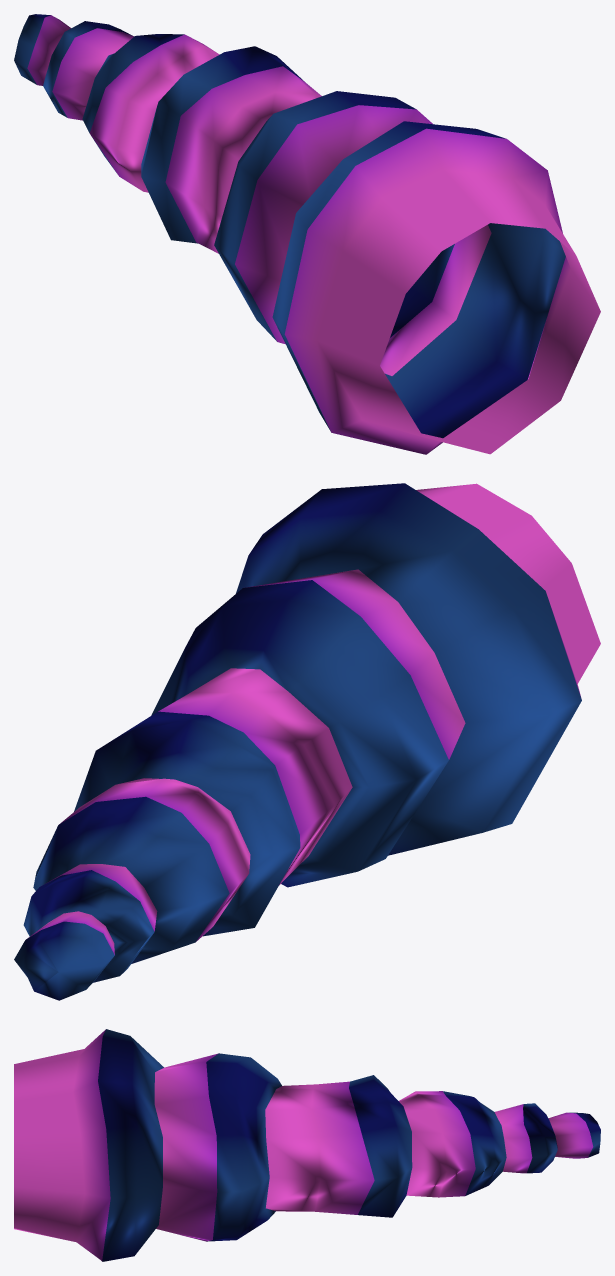
Rendered from RaveCaveTowerA.fbx.
3 renders of one model, top to bottom at view 1: azimuth 30°, elevation 25°; view 2: azimuth 150°, elevation 25°; view 3: azimuth 270°, elevation 25°, orthographic. The views are drawn at different scales.
Parts seen in each view (by area): view 1: RaveCaveTowerA; view 2: RaveCaveTowerA; view 3: RaveCaveTowerA.
Boxes of the visible parts, <box> form: RaveCaveTowerA: <box>14,14,600,454</box>; RaveCaveTowerA: <box>14,483,600,1000</box>; RaveCaveTowerA: <box>14,1029,600,1261</box>.
Size of the model in its own units: 426 by 448 by 1056.
